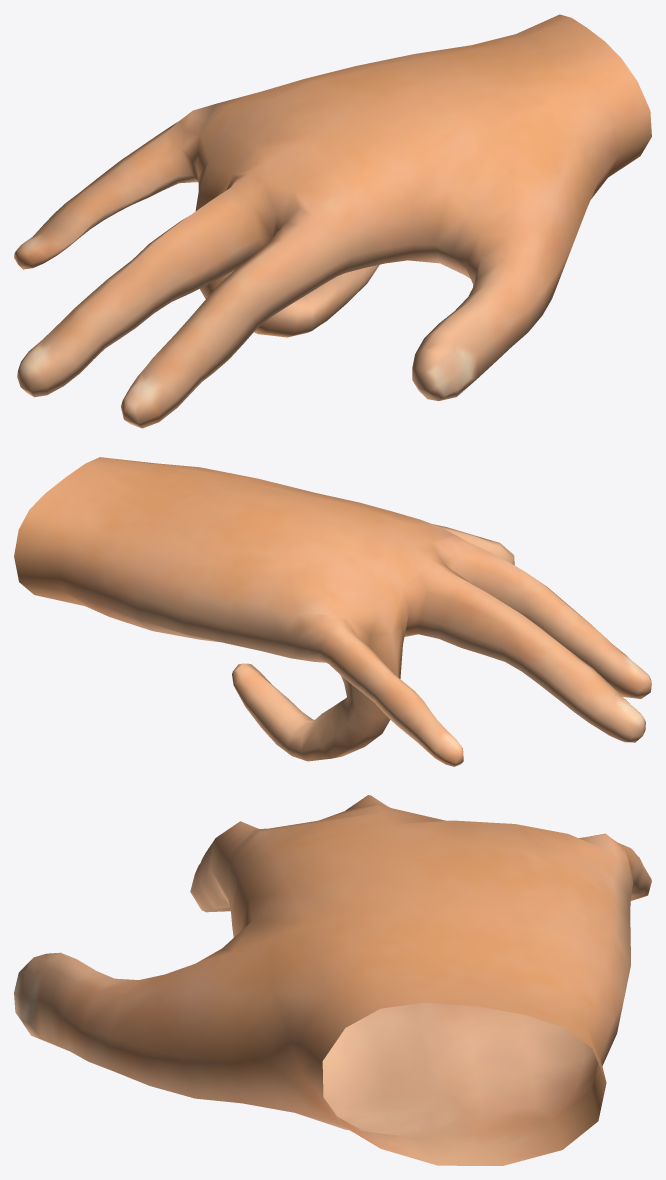
Rendered from F_ring_curl.fbx.
3 views of the same model, one above another, from view 1: azimuth 30°, elevation 25°; view 2: azimuth 150°, elevation 25°; view 3: azimuth 270°, elevation 25° (orthographic). The views are drawn at different scales.
Visible parts, largest first — view 1: F_ring_curl; view 2: F_ring_curl; view 3: F_ring_curl.
Boxes of the visible parts, bbox=[...] form: F_ring_curl: bbox=[14, 14, 651, 428]; F_ring_curl: bbox=[14, 457, 651, 766]; F_ring_curl: bbox=[14, 795, 651, 1165].
Bounding box in the file's own units: 19.95 × 7.62 × 13.69.
Materials: 1 (1 with a texture image).
